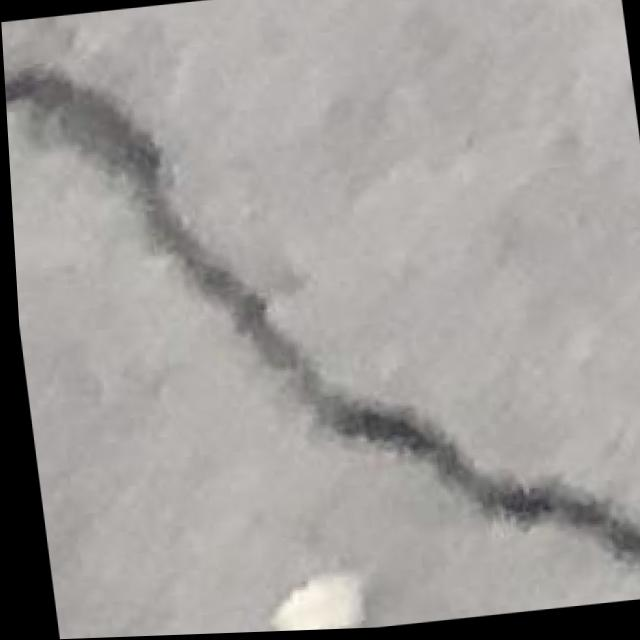Crack: (1, 4, 640, 640)
